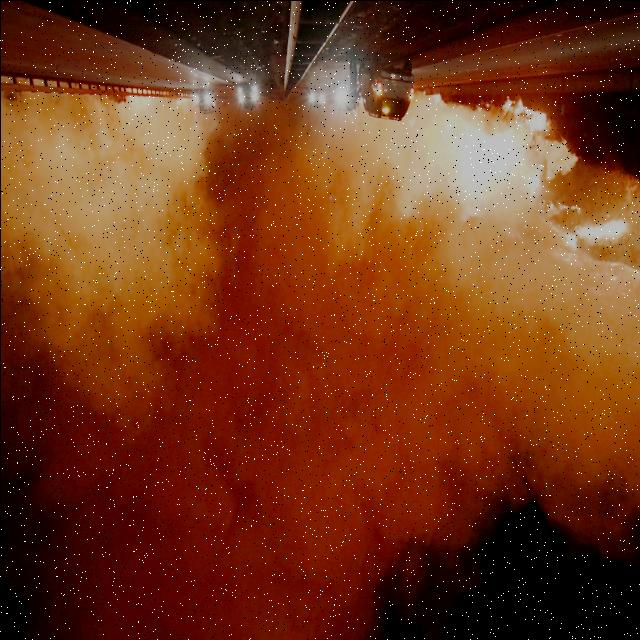api: (442, 96, 550, 235)
asap: (1, 100, 640, 640)
